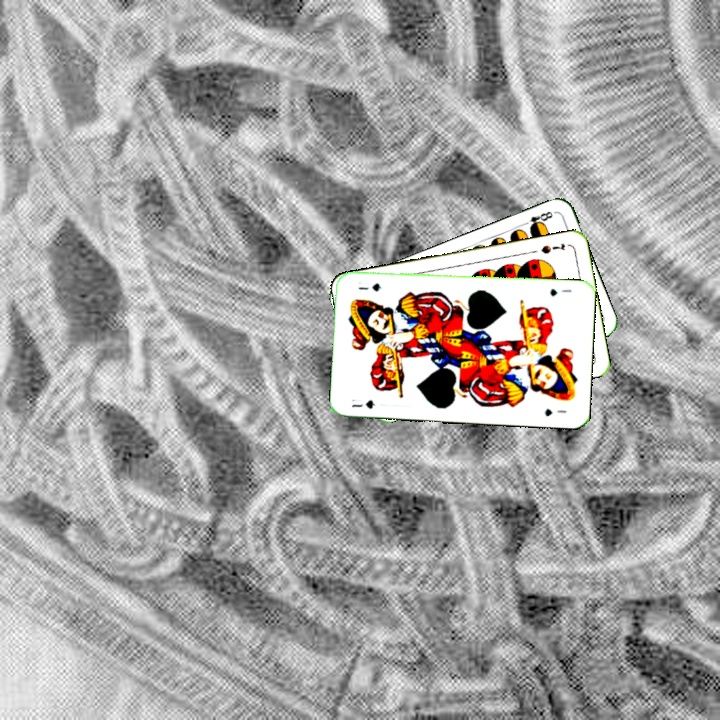E8: (519, 207, 558, 232)
GU: (348, 395, 378, 411), (546, 285, 574, 298)
S7: (537, 239, 568, 256)
